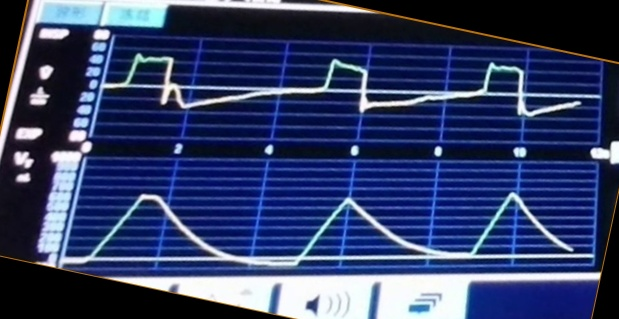Premature_cycling Flow: (112, 51, 560, 139)
Premature_cycling Volume: (79, 188, 574, 269)
